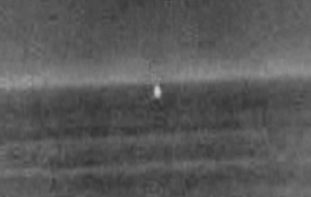Target: (155, 87, 160, 98)
